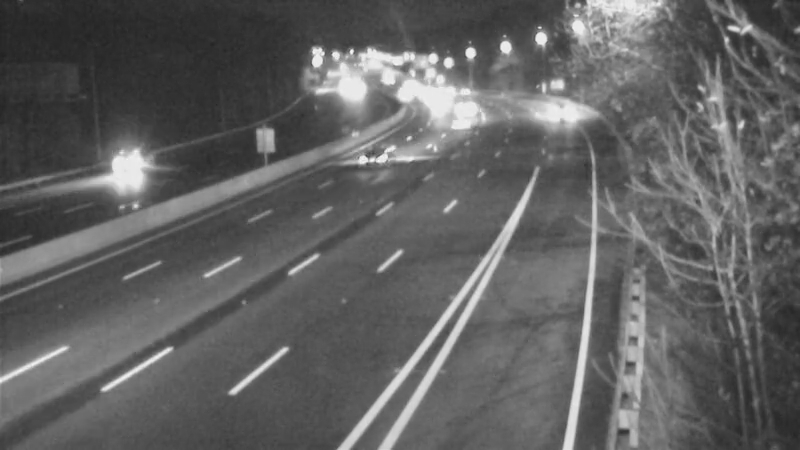vehicle: (331, 119, 411, 199), (76, 130, 156, 210), (406, 75, 456, 125), (406, 82, 456, 132), (525, 77, 575, 127), (442, 79, 492, 129), (440, 99, 490, 149)
